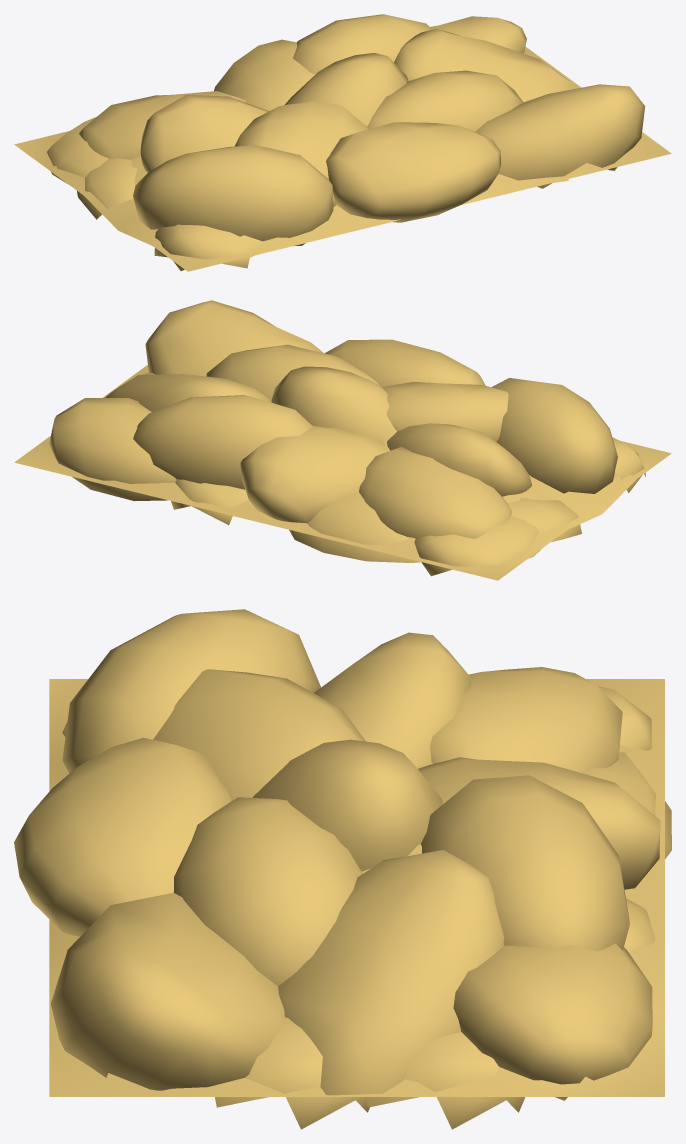
The model's file is mesh_farmtruck_fullcrate02.fbx.
3 views of the same model, one above another, from view 1: azimuth 30°, elevation 25°; view 2: azimuth 150°, elevation 25°; view 3: azimuth 270°, elevation 25° (orthographic). The views are drawn at different scales.
Visible parts, largest first — view 1: mesh_farmtruck_fullcrate02; view 2: mesh_farmtruck_fullcrate02; view 3: mesh_farmtruck_fullcrate02.
Part boxes in pixels (left/top/right/bottom): mesh_farmtruck_fullcrate02: left=14, top=14, right=671, bottom=271; mesh_farmtruck_fullcrate02: left=14, top=300, right=671, bottom=580; mesh_farmtruck_fullcrate02: left=14, top=609, right=671, bottom=1129.
Bounding box in the file's own units: 1.1 × 0.2213 × 0.7258.
